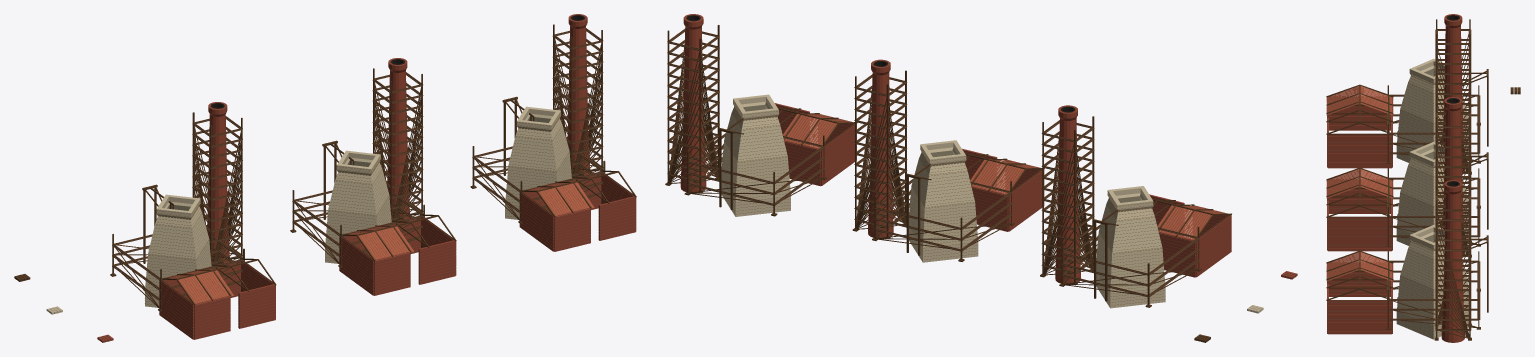
3 renders of one model, left to right at view 1: azimuth 30°, elevation 25°; view 2: azimuth 150°, elevation 25°; view 3: azimuth 270°, elevation 25°, orthographic. The views are drawn at different scales.
Visible parts, largest first — view 1: furnaceA_K3; view 2: furnaceA_K3; view 3: furnaceA_K3.
Part boxes in pixels (left/top/right/bottom): furnaceA_K3: left=14, top=14, right=636, bottom=342; furnaceA_K3: left=665, top=14, right=1297, bottom=342; furnaceA_K3: left=1326, top=14, right=1520, bottom=342.
Size of the model in its own units: 123 by 36.6 by 39.55.
